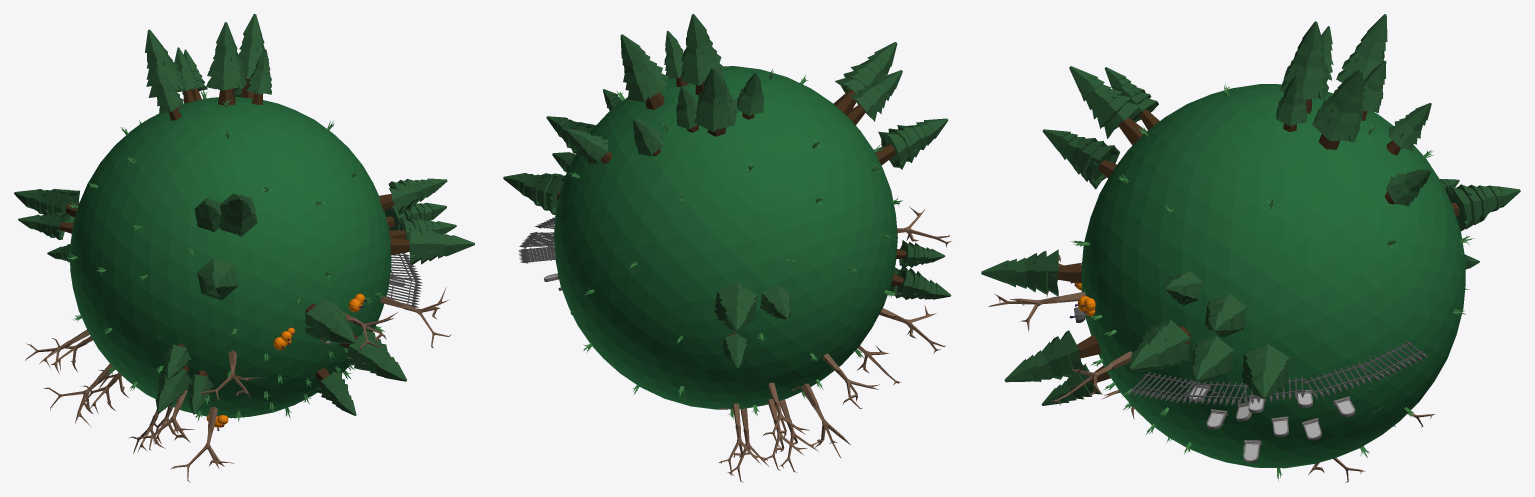
File: HaloweenPlanet.fbx
3 views of the same model, side by side, from view 1: azimuth 30°, elevation 25°; view 2: azimuth 150°, elevation 25°; view 3: azimuth 270°, elevation 25° (orthographic). The views are drawn at different scales.
Visible parts, largest first — view 1: Cylinder.116; view 2: Cylinder.116; view 3: Cylinder.116.
Part boxes in pixels (x1=…): Cylinder.116: x1=14, y1=14, x2=474, y2=482; Cylinder.116: x1=503, y1=14, x2=951, y2=482; Cylinder.116: x1=981, y1=14, x2=1520, y2=482.
Size of the model in its own units: 2264 by 2364 by 2329.
